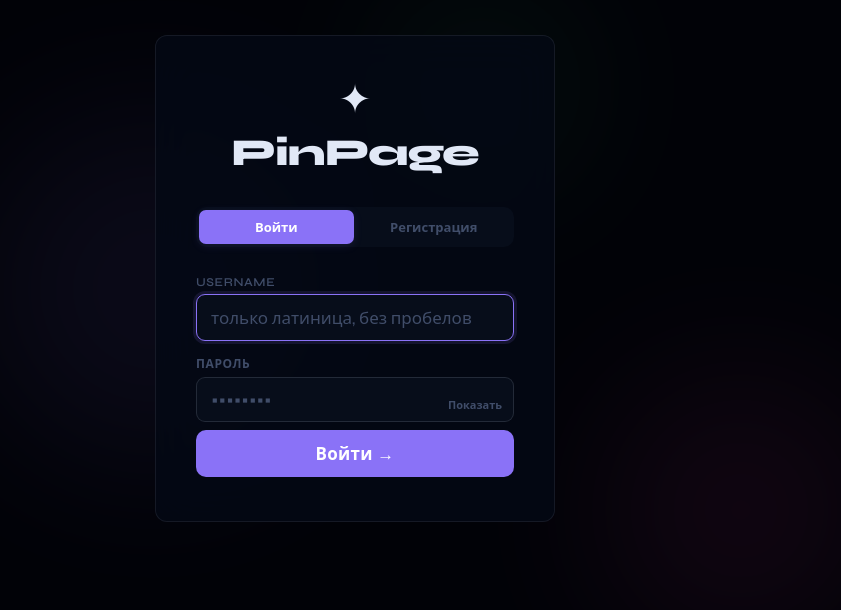
it: вход и регистрация › забаненный не входит
This screenshot has width=841, height=610.
Expected: the button "Войти →" is shown, [196, 430, 514, 476]
Type "nova" into the field with placeholder "только латиница, без пробелов".
click(355, 317); type("nova")  # box [196, 294, 514, 340]
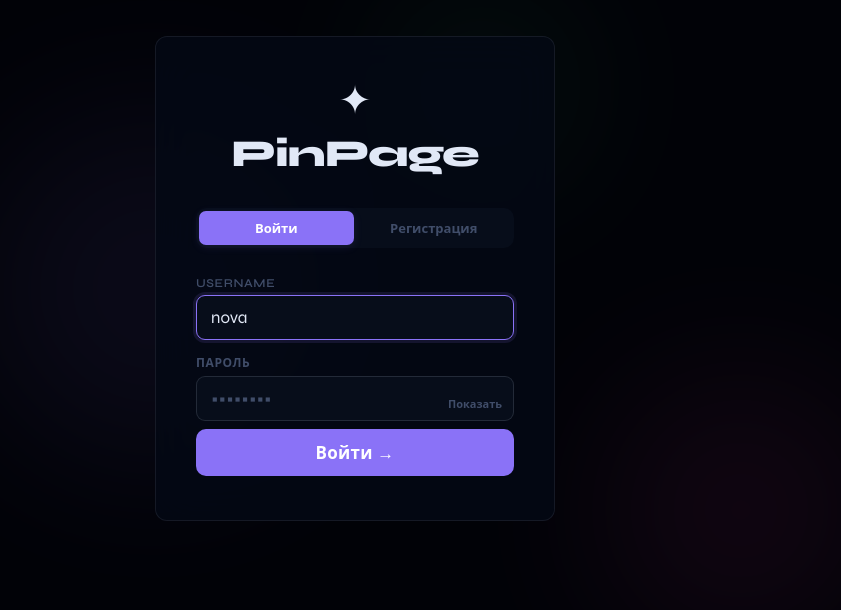
Type "secret1" into the password field with placeholder "••••••••".
click(355, 398); type("secret1")  # box [196, 376, 514, 420]
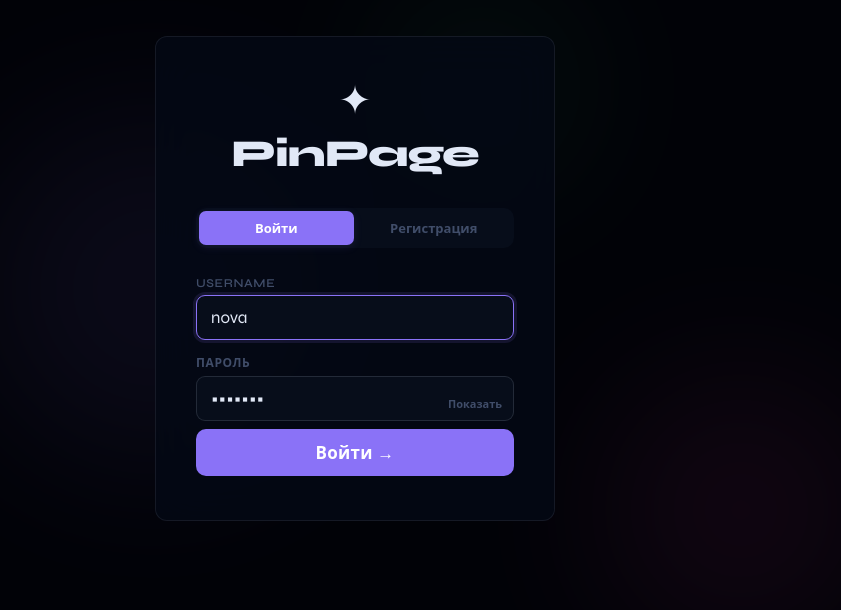
Click the button "Войти →".
click(355, 452)  # box [196, 428, 514, 476]
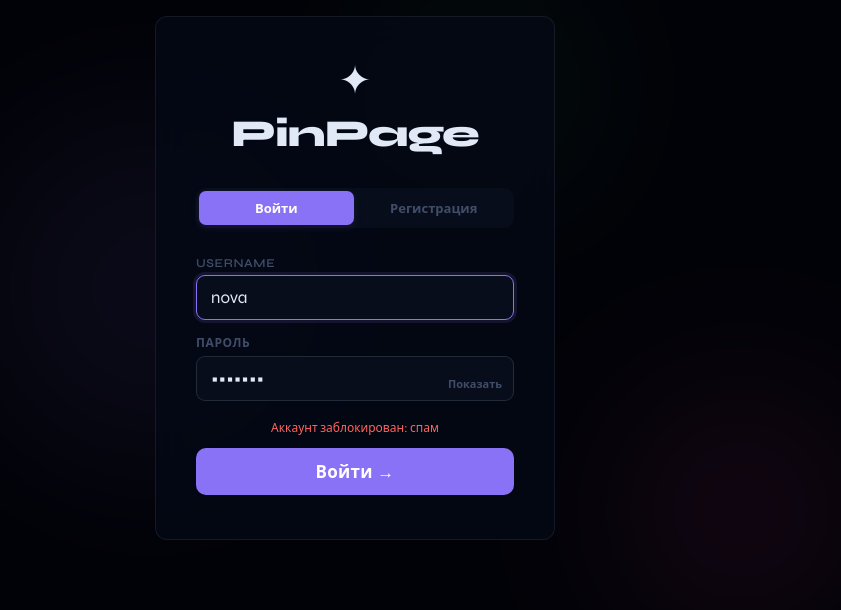
Expected: the message shows "спам", [271, 421, 439, 435]
